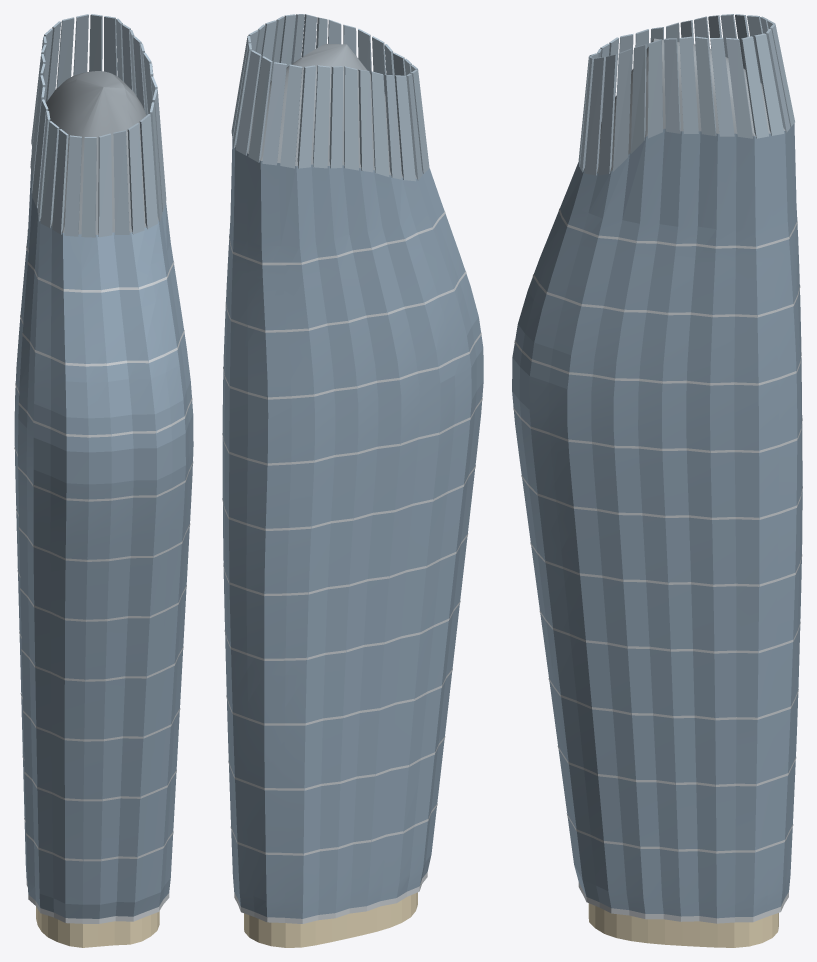
The model's file is london-one-blackfriars.glb.
3 renders of one model, left to right at view 1: azimuth 30°, elevation 25°; view 2: azimuth 150°, elevation 25°; view 3: azimuth 270°, elevation 25°, orthographic. The views are drawn at different scales.
Visible parts, largest first — view 1: One Blackfriars; view 2: One Blackfriars; view 3: One Blackfriars.
Part boxes in pixels (<box>): One Blackfriars: <box>14,14,193,947</box>; One Blackfriars: <box>222,14,483,947</box>; One Blackfriars: <box>512,14,802,947</box>.
Size of the model in its own units: 34.43 by 170 by 49.42.
